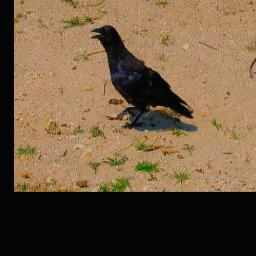Crow: (91, 25, 193, 129)
